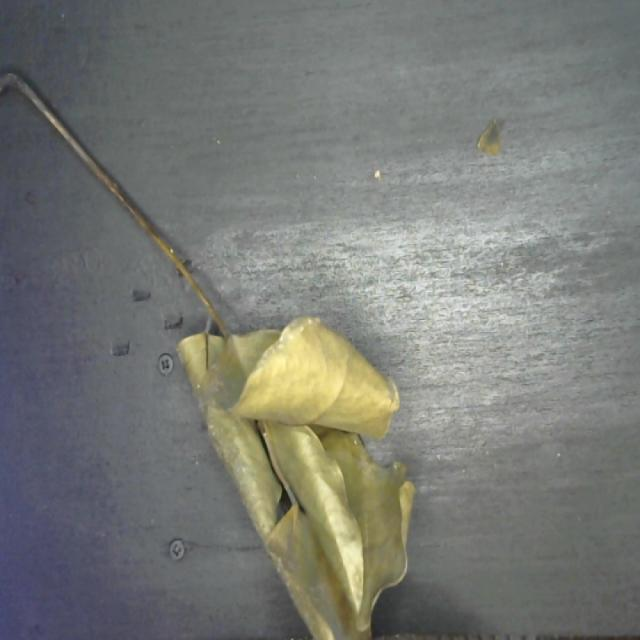biodegradable: (176, 321, 418, 640)
